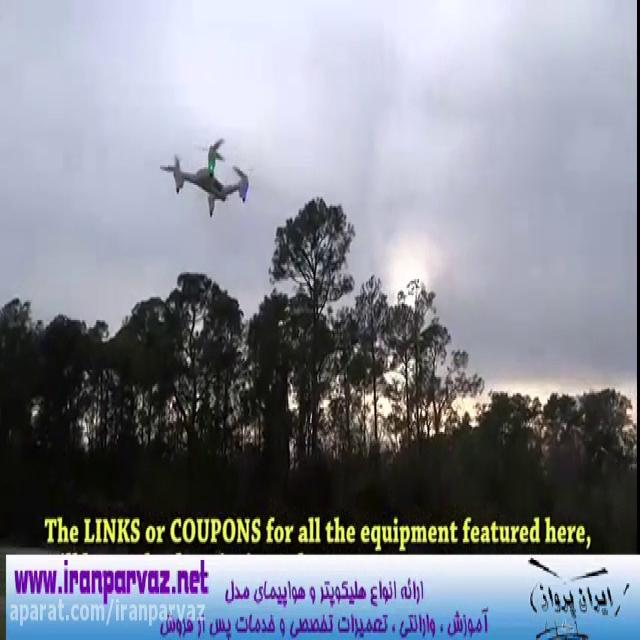drone: (156, 132, 250, 222)
